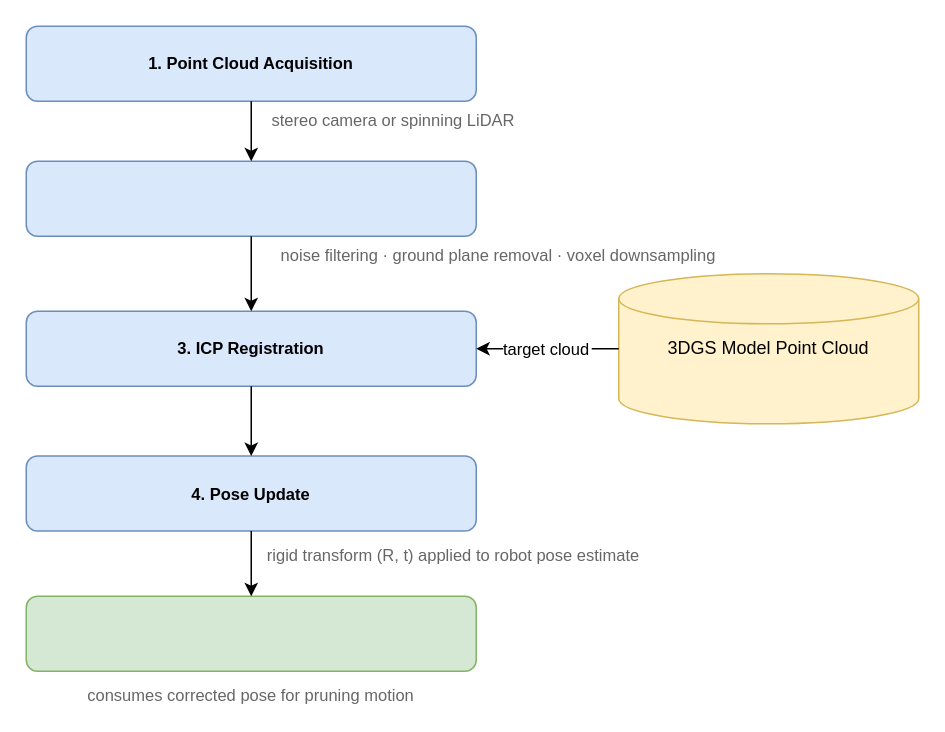
The diagram is 945 pixels wide and 732 high, and some of its shapes have lost their labels. The centre of each missing label's shape, as x and y in pixels:
"2. Point Cloud Preprocessing" goes at pixel 250 198.
"Arm Path Planner" goes at pixel 250 633.
